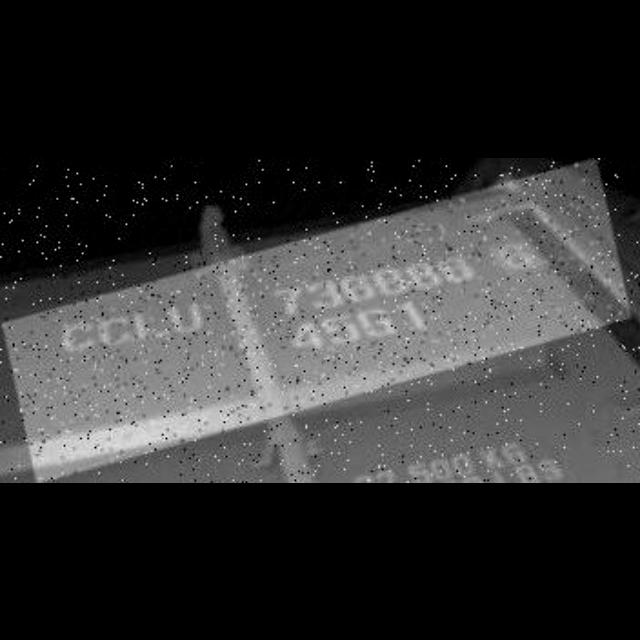0: (430, 452, 456, 482), (454, 447, 476, 477)
1: (396, 292, 438, 336)
3: (305, 274, 345, 310)
4: (288, 321, 326, 354)
5: (323, 313, 359, 347), (405, 452, 431, 482)
6: (339, 268, 377, 306)
7: (271, 278, 305, 316)
8: (402, 253, 443, 293), (372, 260, 408, 298), (438, 247, 474, 285), (498, 236, 532, 272)
c: (94, 307, 132, 351), (56, 314, 95, 352)
g: (356, 301, 398, 341), (500, 436, 528, 462)
k: (476, 442, 502, 474)
l: (130, 301, 170, 347)
s: (538, 452, 572, 482)
u: (165, 296, 211, 338)
